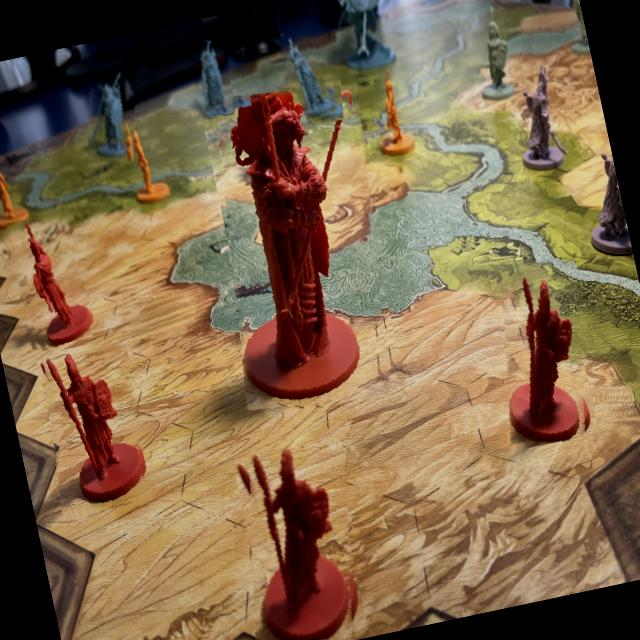amon: (191, 73, 414, 420)
amon_follower: (224, 435, 376, 640), (480, 253, 606, 452), (32, 336, 156, 519), (1, 208, 98, 352)
isis_follower: (74, 64, 148, 167), (276, 25, 334, 124), (186, 37, 238, 120)
